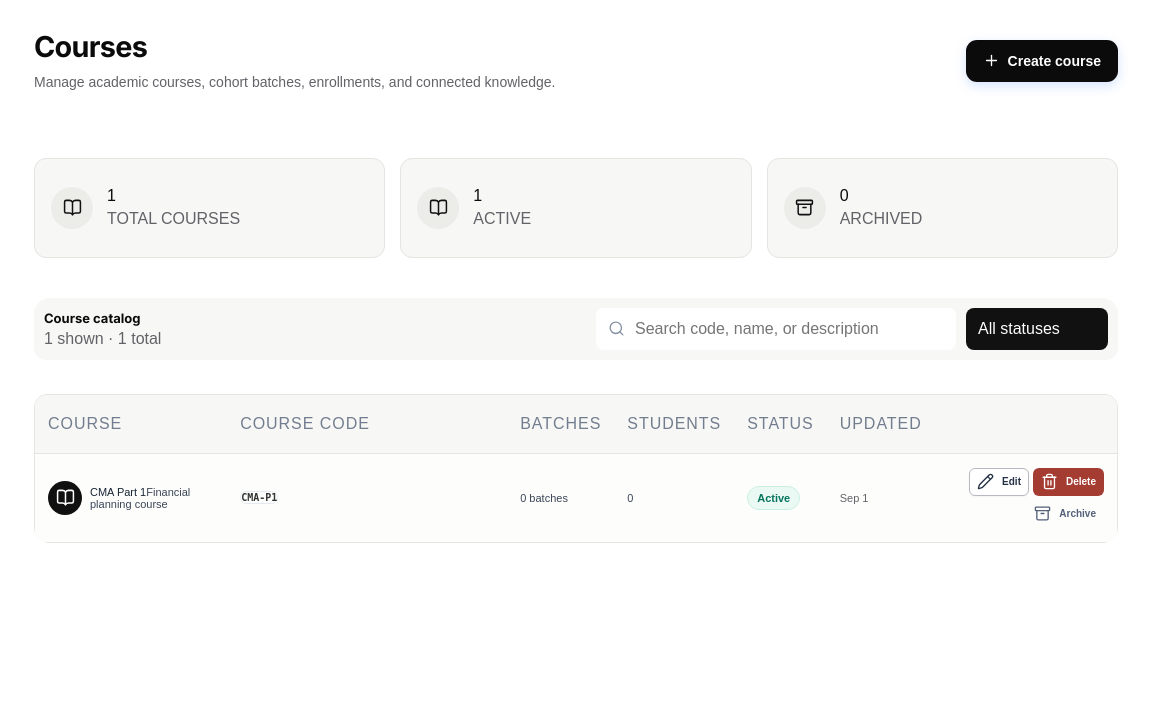
Test case: CoursesPage › creates and edits a workspace course
Expected: the text "CMA Part 1" is shown, left=90, top=486, right=146, bottom=498
Click the button "Create course".
click(1042, 61)  # box left=966, top=40, right=1118, bottom=82
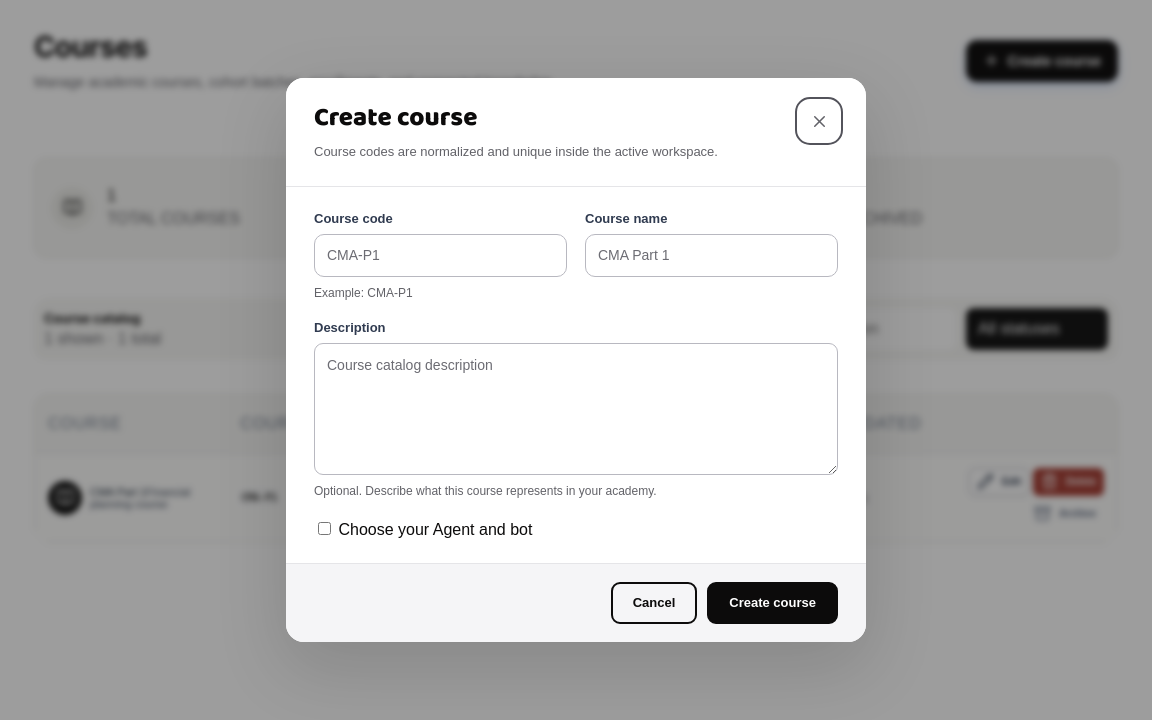
Type "cpa-core" into the field labelled "Course code".
click(440, 255); type("cpa-core")  # box left=314, top=234, right=567, bottom=276
Type "CPA Core" into the field labelled "Course name".
click(712, 255); type("CPA Core")  # box left=585, top=234, right=838, bottom=276
Type "CPA foundation curriculum" into the text box labelled "Description".
click(576, 409); type("CPA foundation curriculum")  # box left=314, top=343, right=838, bottom=475
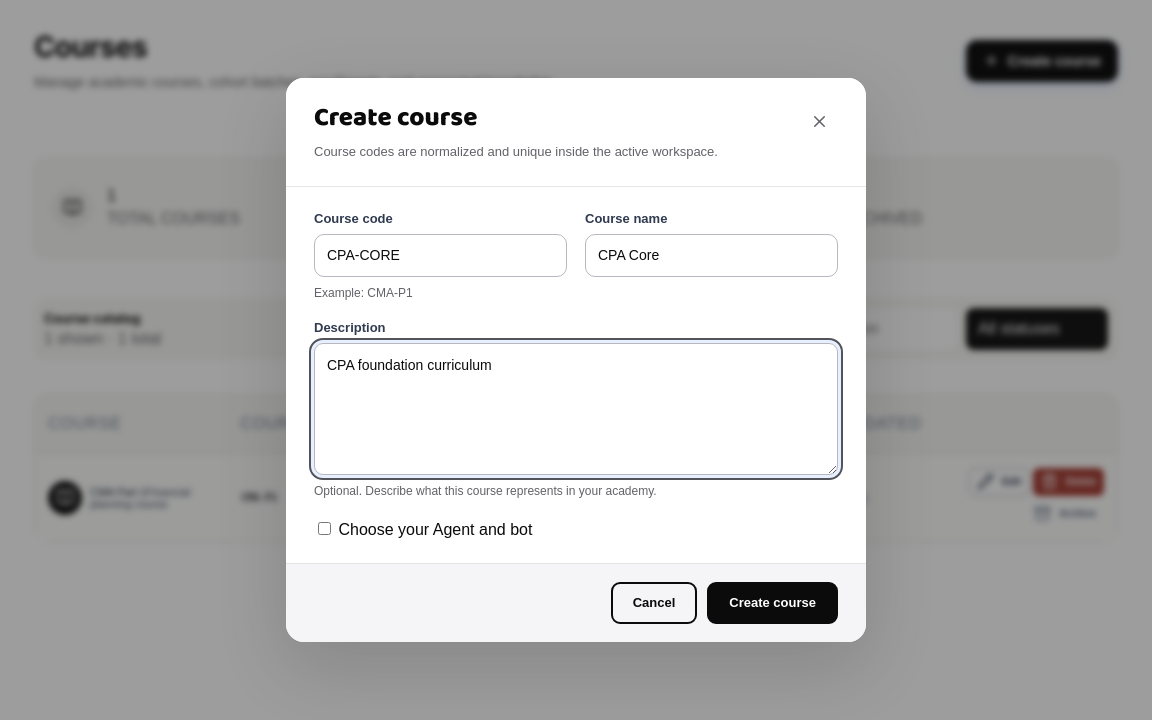
Click the button "Create course".
click(773, 603)  # box left=707, top=582, right=838, bottom=624
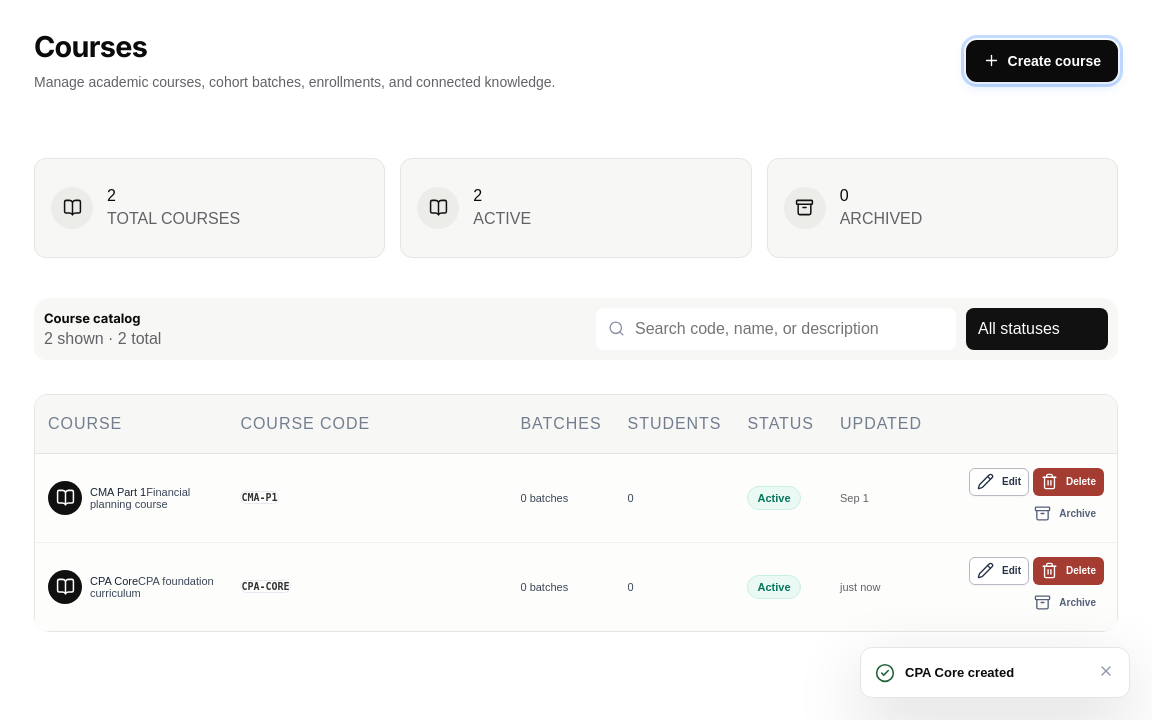
Expected: the text "CPA Core" is shown, left=90, top=575, right=138, bottom=587
Click the button "Edit" in the row of "CPA foundation curriculum".
click(999, 571)  # box left=969, top=557, right=1029, bottom=585
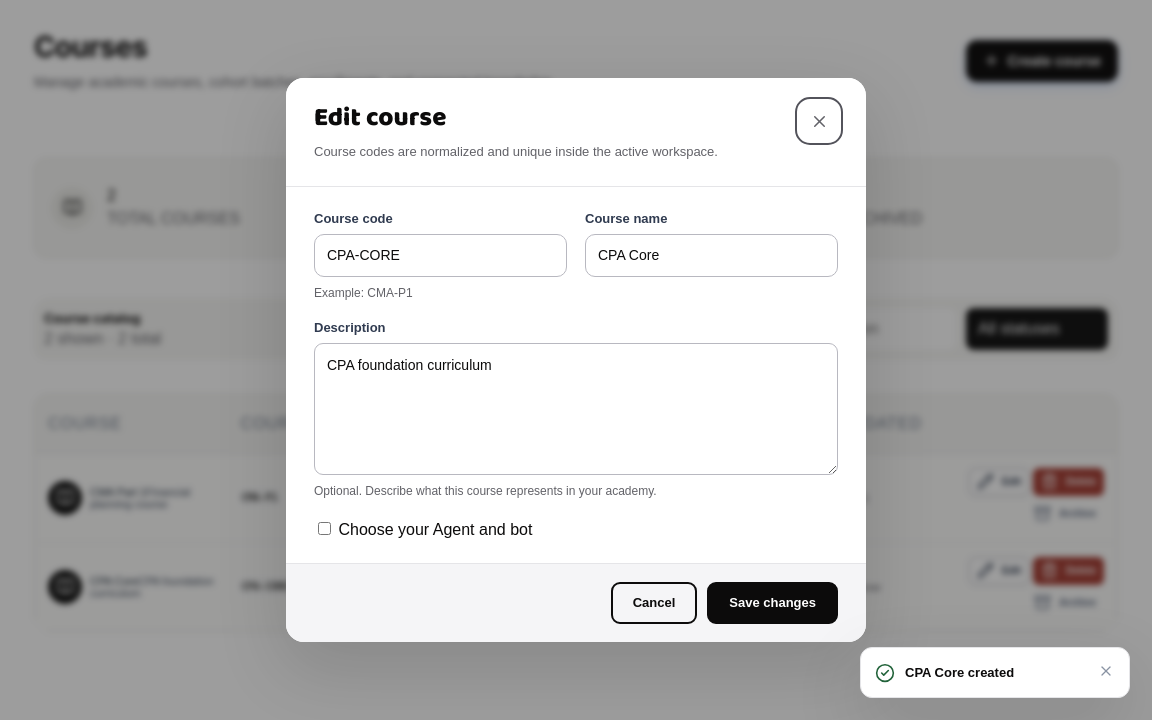
Replace the text in the field labelled "Course name" with "CPA Core Program" at {"x": 712, "y": 255}, box left=585, top=234, right=838, bottom=276
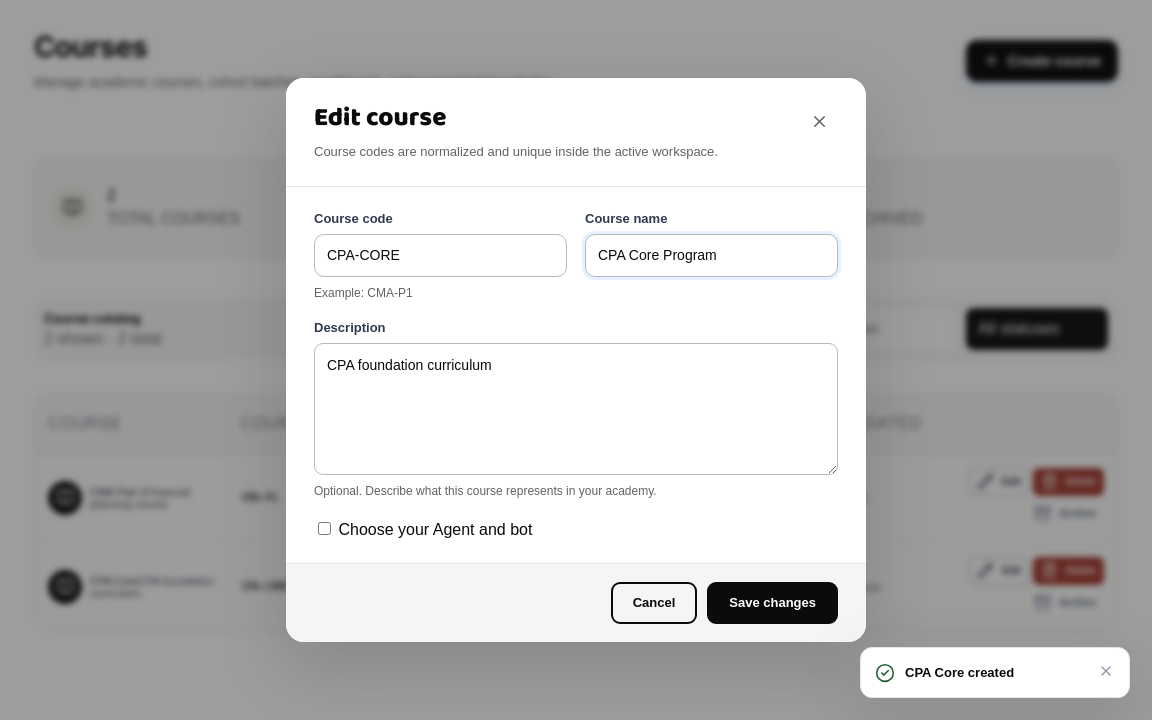
Click the button "Save changes".
click(773, 603)  # box left=707, top=582, right=838, bottom=624
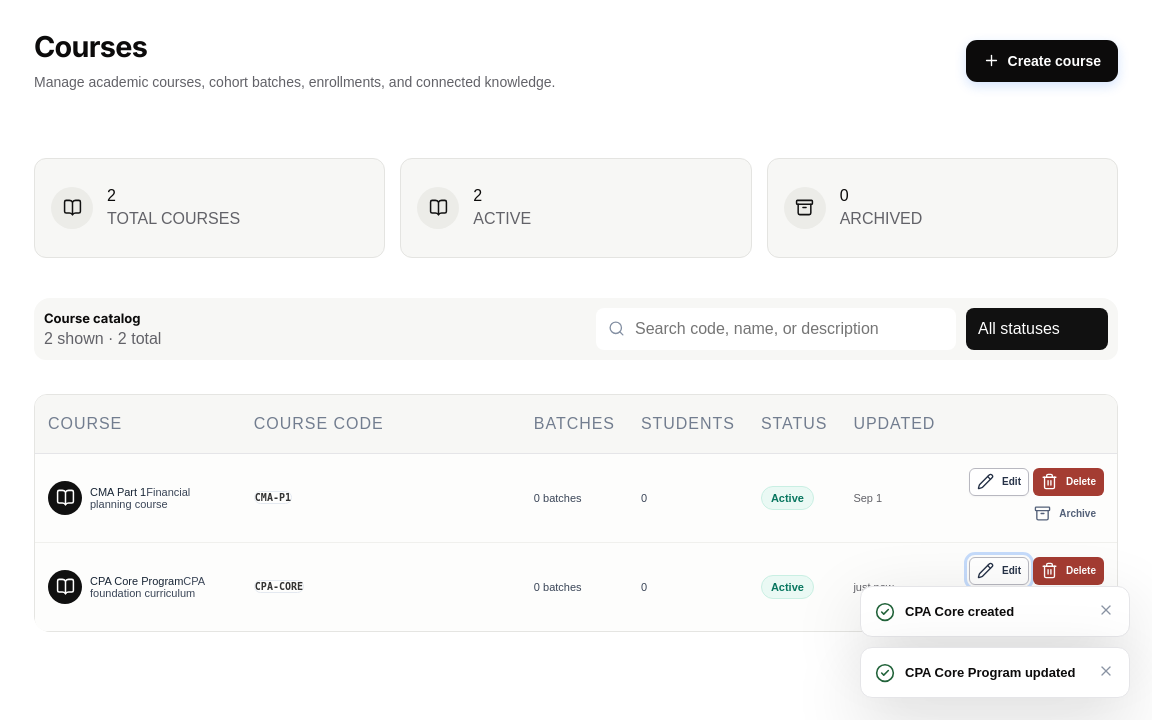
Expected: the text "CPA Core Program" is shown, left=90, top=575, right=183, bottom=587
